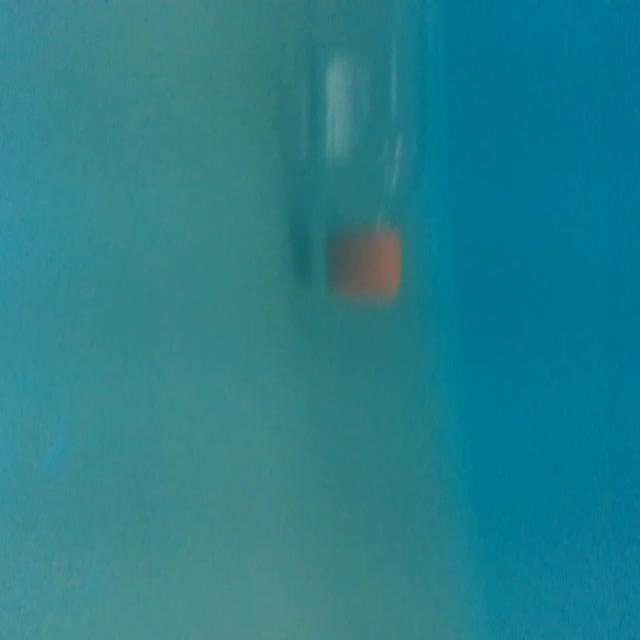plastic bottle: (278, 0, 434, 346)
